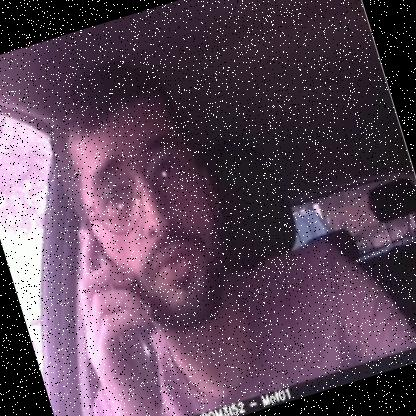phone: (65, 217, 176, 415)
